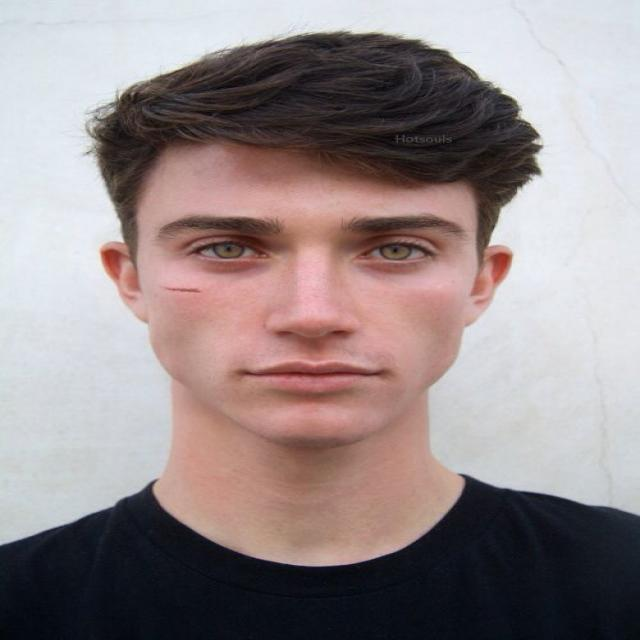earlobe: (125, 291, 152, 325), (465, 295, 488, 324)
eye: (190, 240, 270, 262), (359, 241, 433, 262)
nose: (263, 321, 366, 362)
wholeear: (466, 246, 514, 324)
